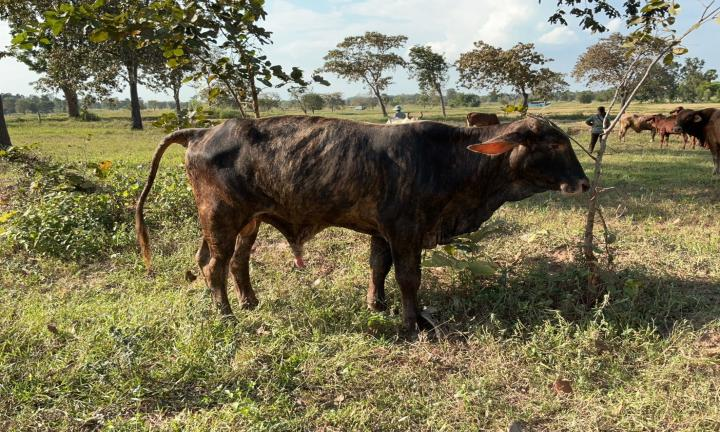Charolais: (136, 115, 588, 332)
